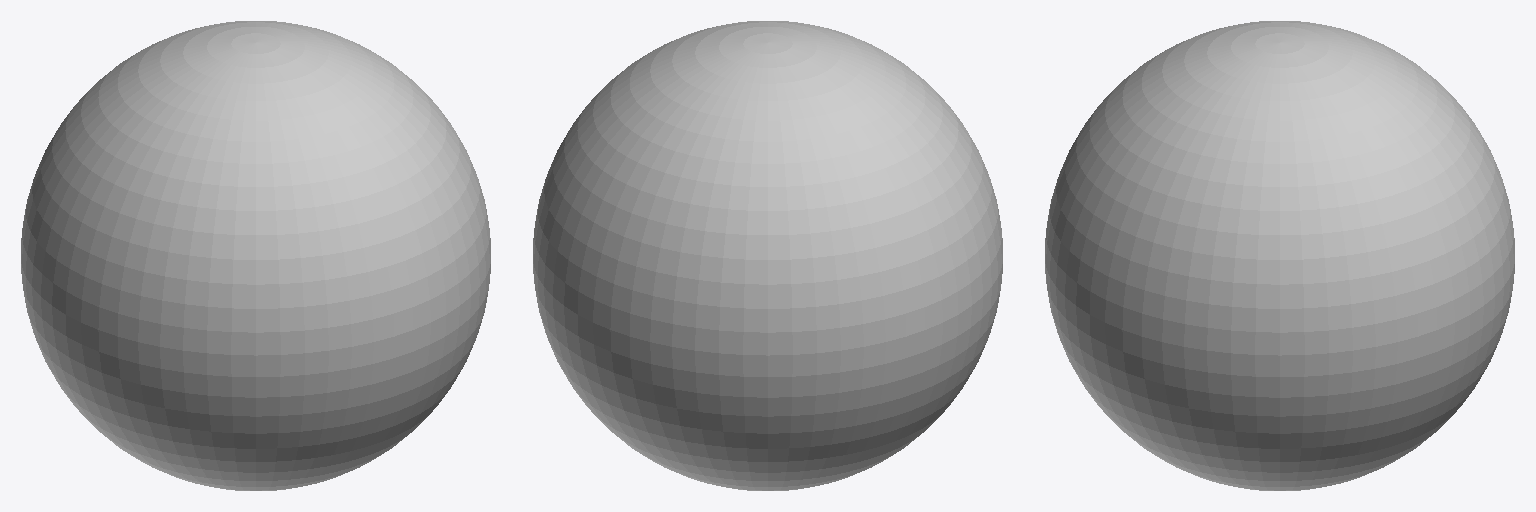
File: sun.obj
3 views of the same model, side by side, from view 1: azimuth 30°, elevation 25°; view 2: azimuth 150°, elevation 25°; view 3: azimuth 270°, elevation 25° (orthographic).
Parts seen in each view (by area): view 1: sun; view 2: sun; view 3: sun.
Part boxes in pixels (x1,y1,x2,y2): sun: (21, 21, 490, 490); sun: (533, 21, 1002, 490); sun: (1045, 21, 1514, 490).
Bounding box in the file's own units: 9 × 9 × 9.